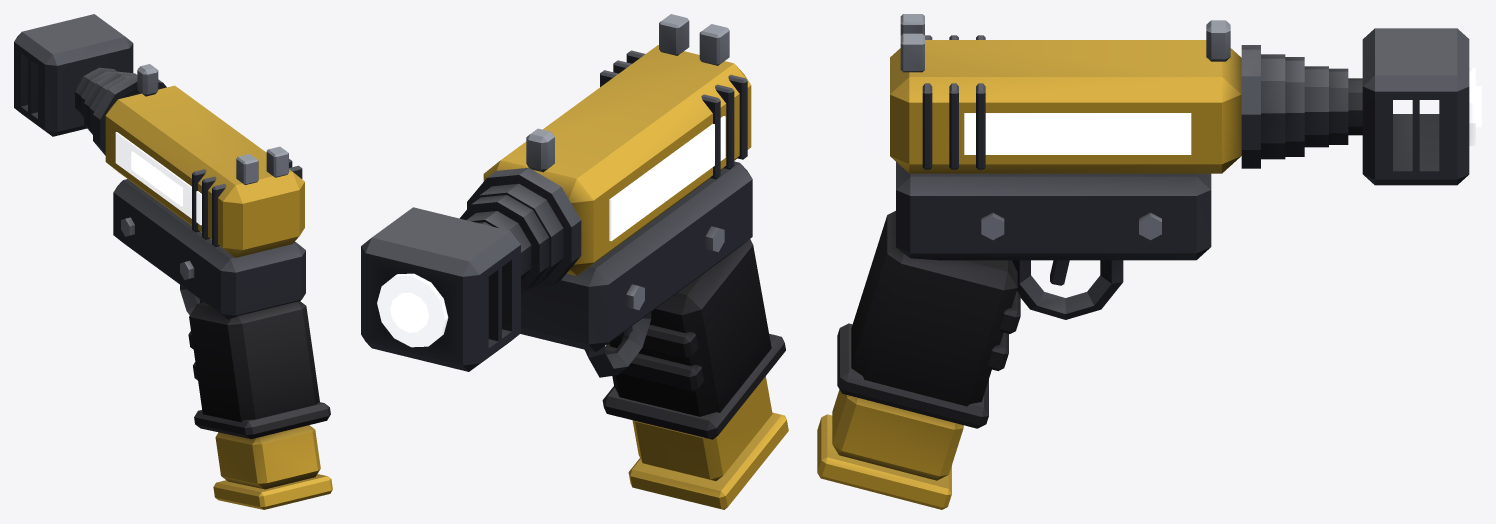
File: Starter.glb
3 views of the same model, side by side, from view 1: azimuth 30°, elevation 25°; view 2: azimuth 150°, elevation 25°; view 3: azimuth 270°, elevation 25° (orthographic). The views are drawn at different scales.
Visible parts, largest first — view 1: Body, Halo_Glow, Accent_Glow; view 2: Body, Halo_Glow, Accent_Glow; view 3: Body, Halo_Glow, Accent_Glow.
Part boxes in pixels (x1,y1,x2,y2): Body: (14,14,332,509); Halo_Glow: (115,132,201,225); Accent_Glow: (131,151,182,206); Body: (361,14,788,509); Halo_Glow: (377,116,725,347); Accent_Glow: (390,142,704,332); Body: (817,14,1469,509); Halo_Glow: (964,68,1475,154); Accent_Glow: (1011,86,1481,147).
Size of the model in its own units: 0.61 by 2.12 by 2.74.
